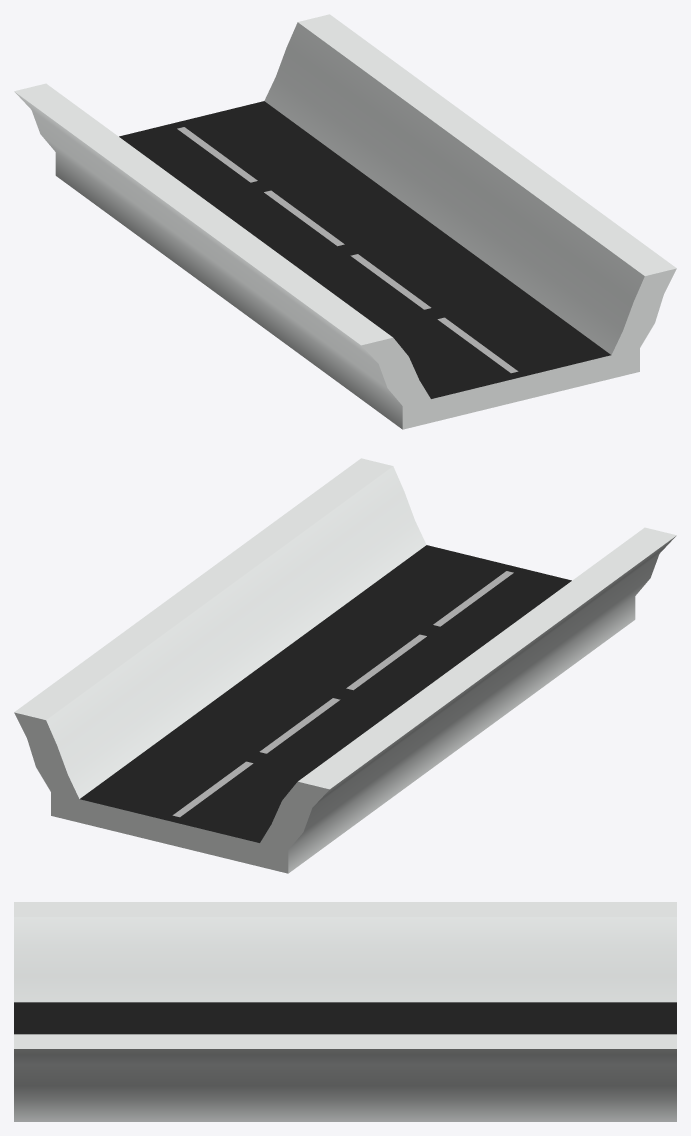
Rendered from duong thang.fbx.
3 renders of one model, top to bottom at view 1: azimuth 30°, elevation 25°; view 2: azimuth 150°, elevation 25°; view 3: azimuth 270°, elevation 25°, orthographic. The views are drawn at different scales.
Visible parts, largest first — view 1: duong_thang; view 2: duong_thang; view 3: duong_thang.
Boxes of the visible parts, x1=… form: duong_thang: x1=14, y1=14, x2=676, y2=429; duong_thang: x1=14, y1=458, x2=676, y2=873; duong_thang: x1=14, y1=902, x2=676, y2=1121.
Size of the model in its own units: 21 by 6 by 40.
1 material, 1 textured.
